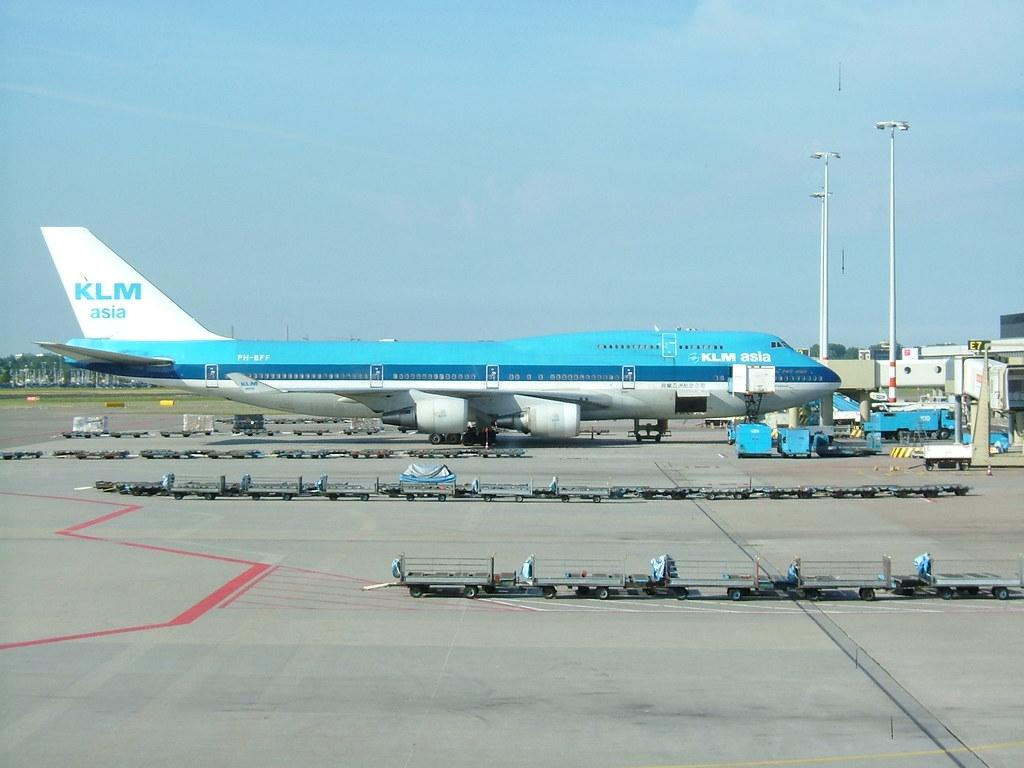plane: (34, 225, 843, 445)
